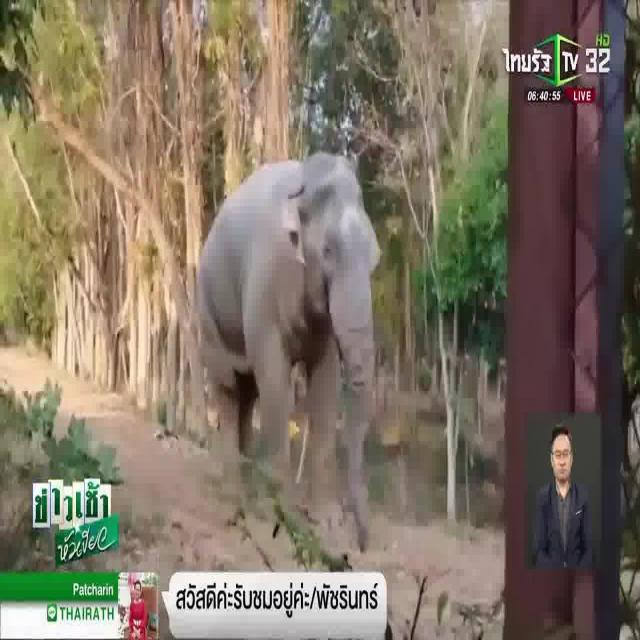Elephant: (194, 148, 384, 505)
